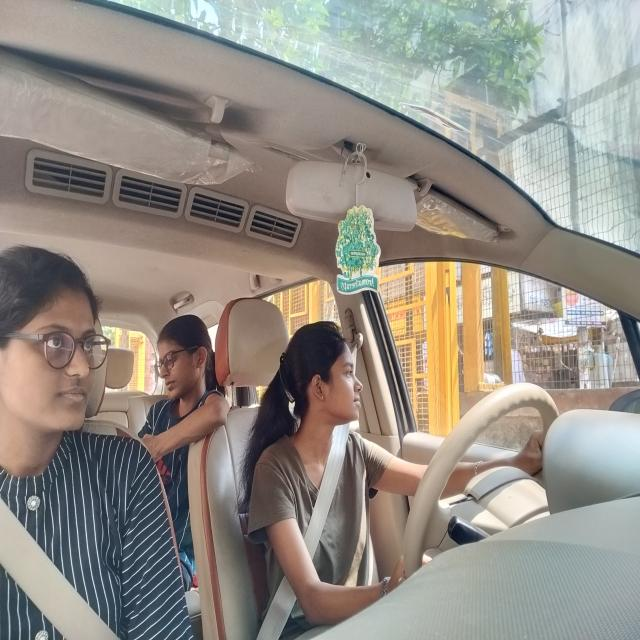LeftRight: (284, 318, 363, 438)
person: (2, 247, 105, 453), (156, 314, 215, 402)
